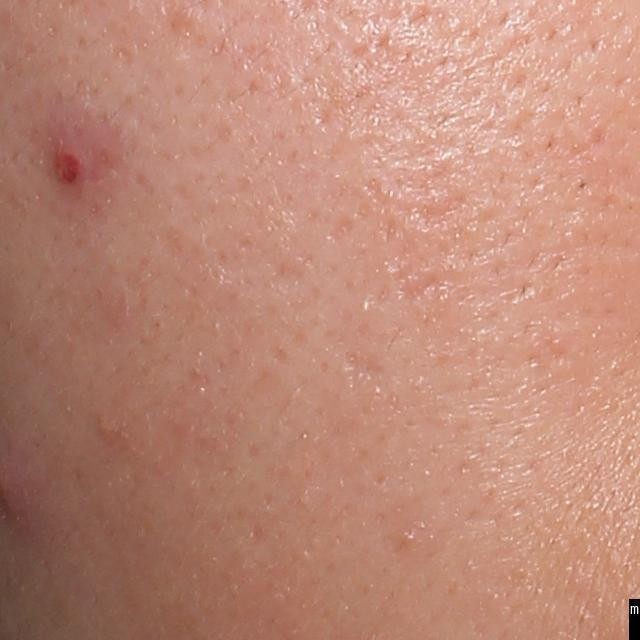papule: (51, 139, 92, 194), (92, 411, 125, 443)
